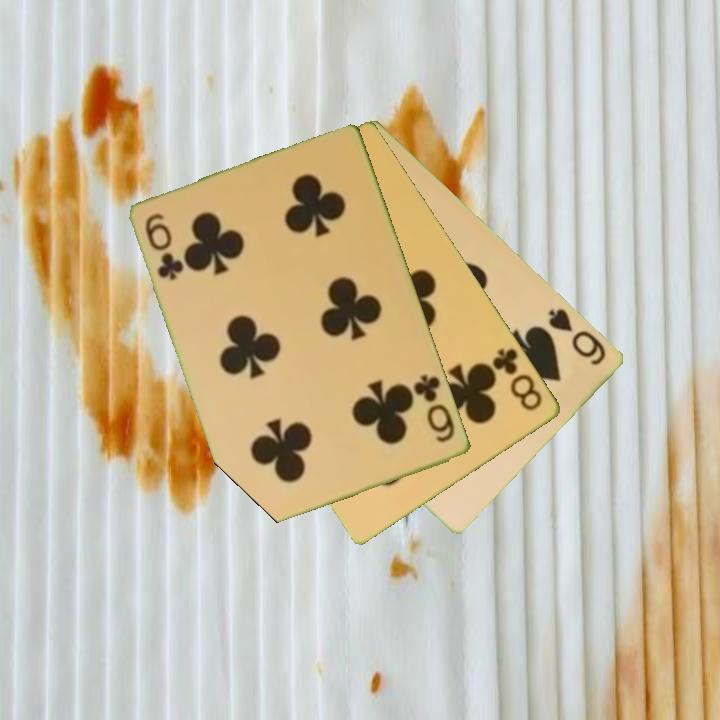6c: (410, 370, 459, 446), (142, 210, 187, 284)
6s: (545, 305, 609, 369)
8c: (489, 344, 546, 414)
